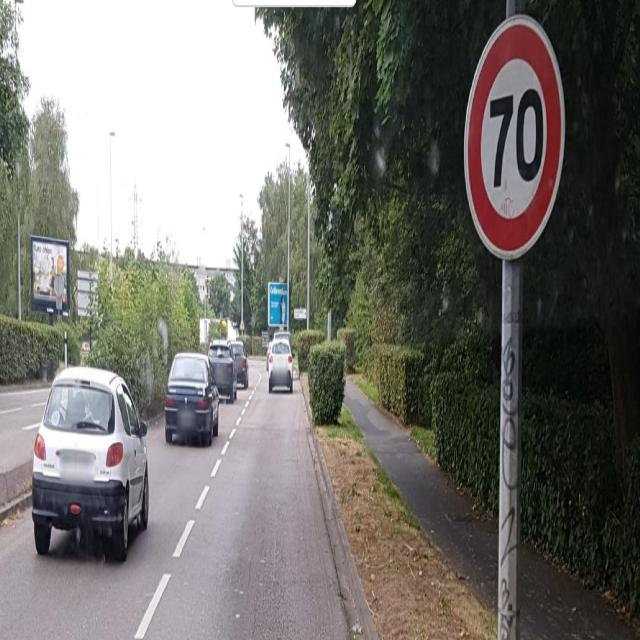speed_70: (463, 15, 566, 260)
